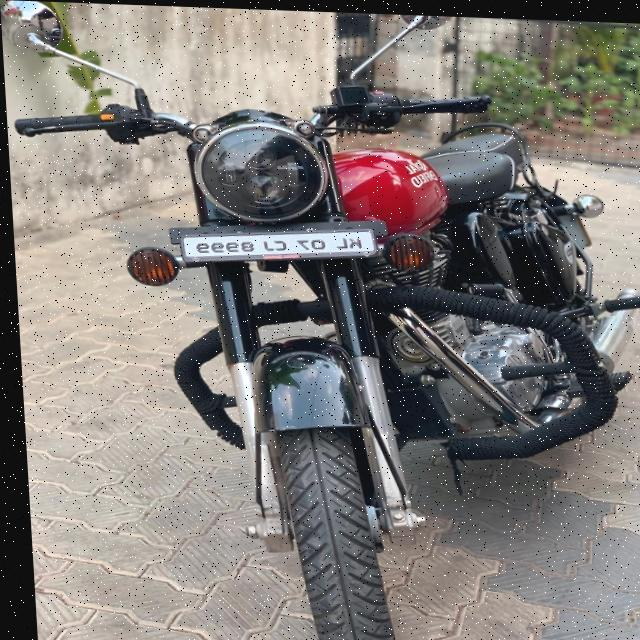plate: (175, 215, 375, 272)
